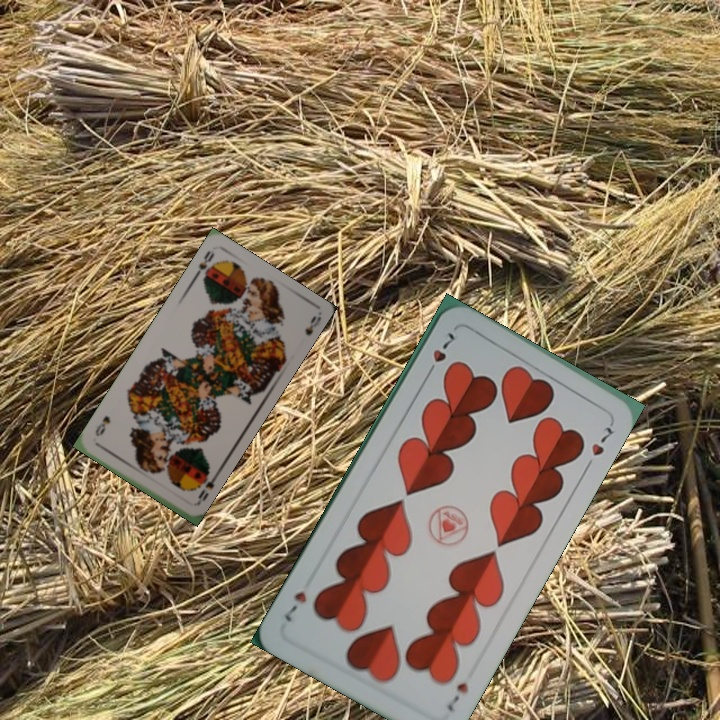H7: (421, 328, 457, 380), (442, 678, 471, 714)
SO: (190, 467, 220, 508), (190, 246, 217, 282)
